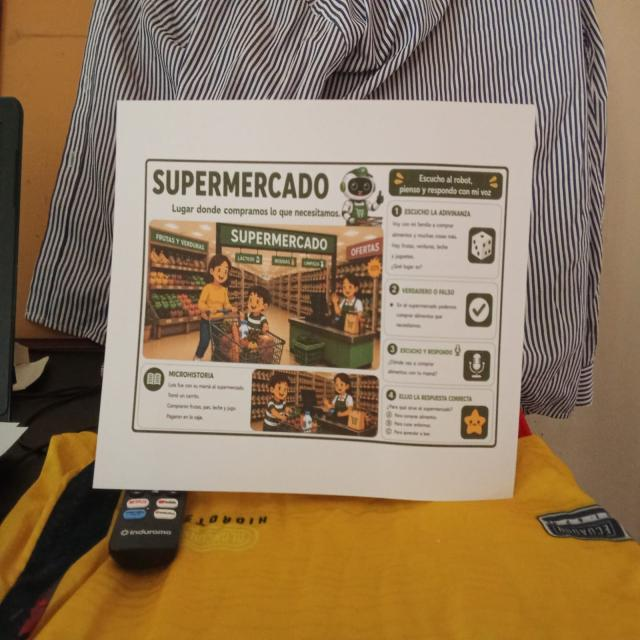supermercado: (128, 154, 513, 454)
